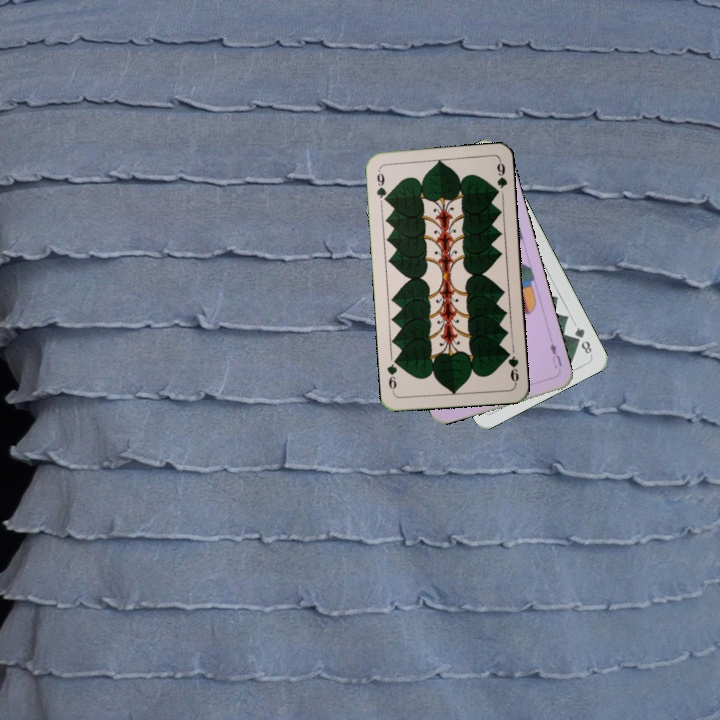EU: (546, 339, 564, 371)
G8: (570, 323, 595, 356)
G9: (502, 346, 521, 386), (372, 166, 390, 205)
